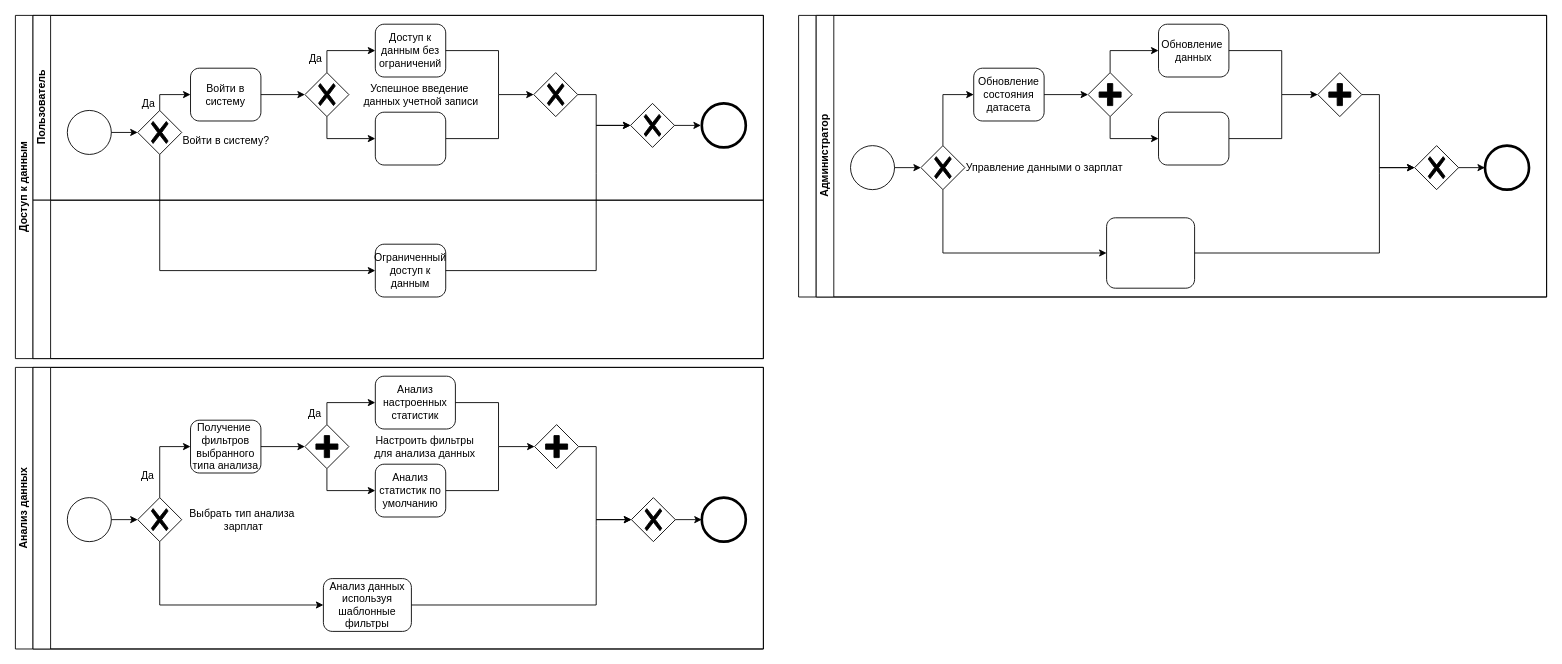
This 1562x664 diagram has some shape labels left out. The box of each missing label's shape, as (x1, y1, x2, y2) in pixels:
Авторизованный пользователь: (32, 367, 763, 649)
Гость: (32, 199, 763, 359)
Добавление данных: (1158, 111, 1229, 165)
Отказ. Повтор ввода: (374, 111, 446, 165)
Работа с базой данных: (798, 15, 1547, 297)
Управление учетными записями: (1106, 217, 1195, 288)
